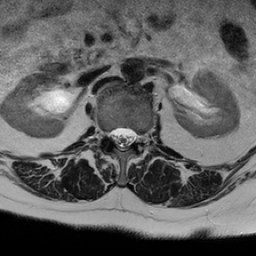CCS_normal: (118, 118, 126, 157)
LFS_normal: (134, 123, 144, 149)
LLS_normal: (126, 118, 134, 152)
RFS_normal: (101, 121, 109, 144)
RLS_normal: (109, 121, 118, 148)
